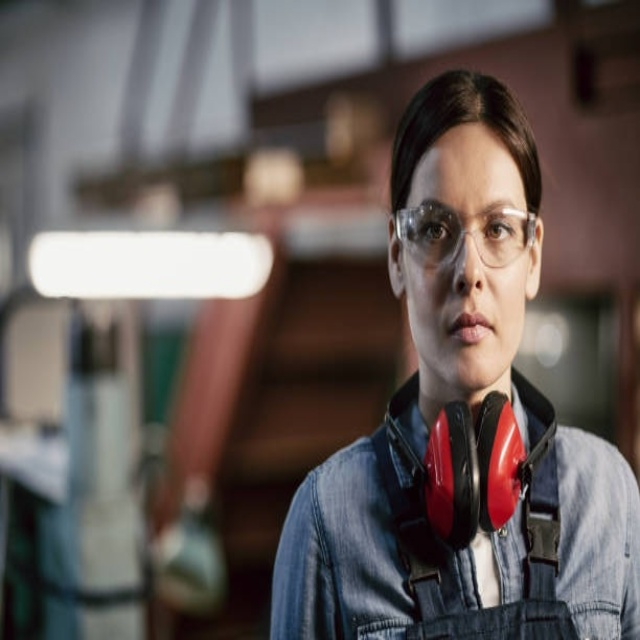Gafas: (394, 203, 537, 270)
Sin_mascara: (441, 296, 505, 373)
